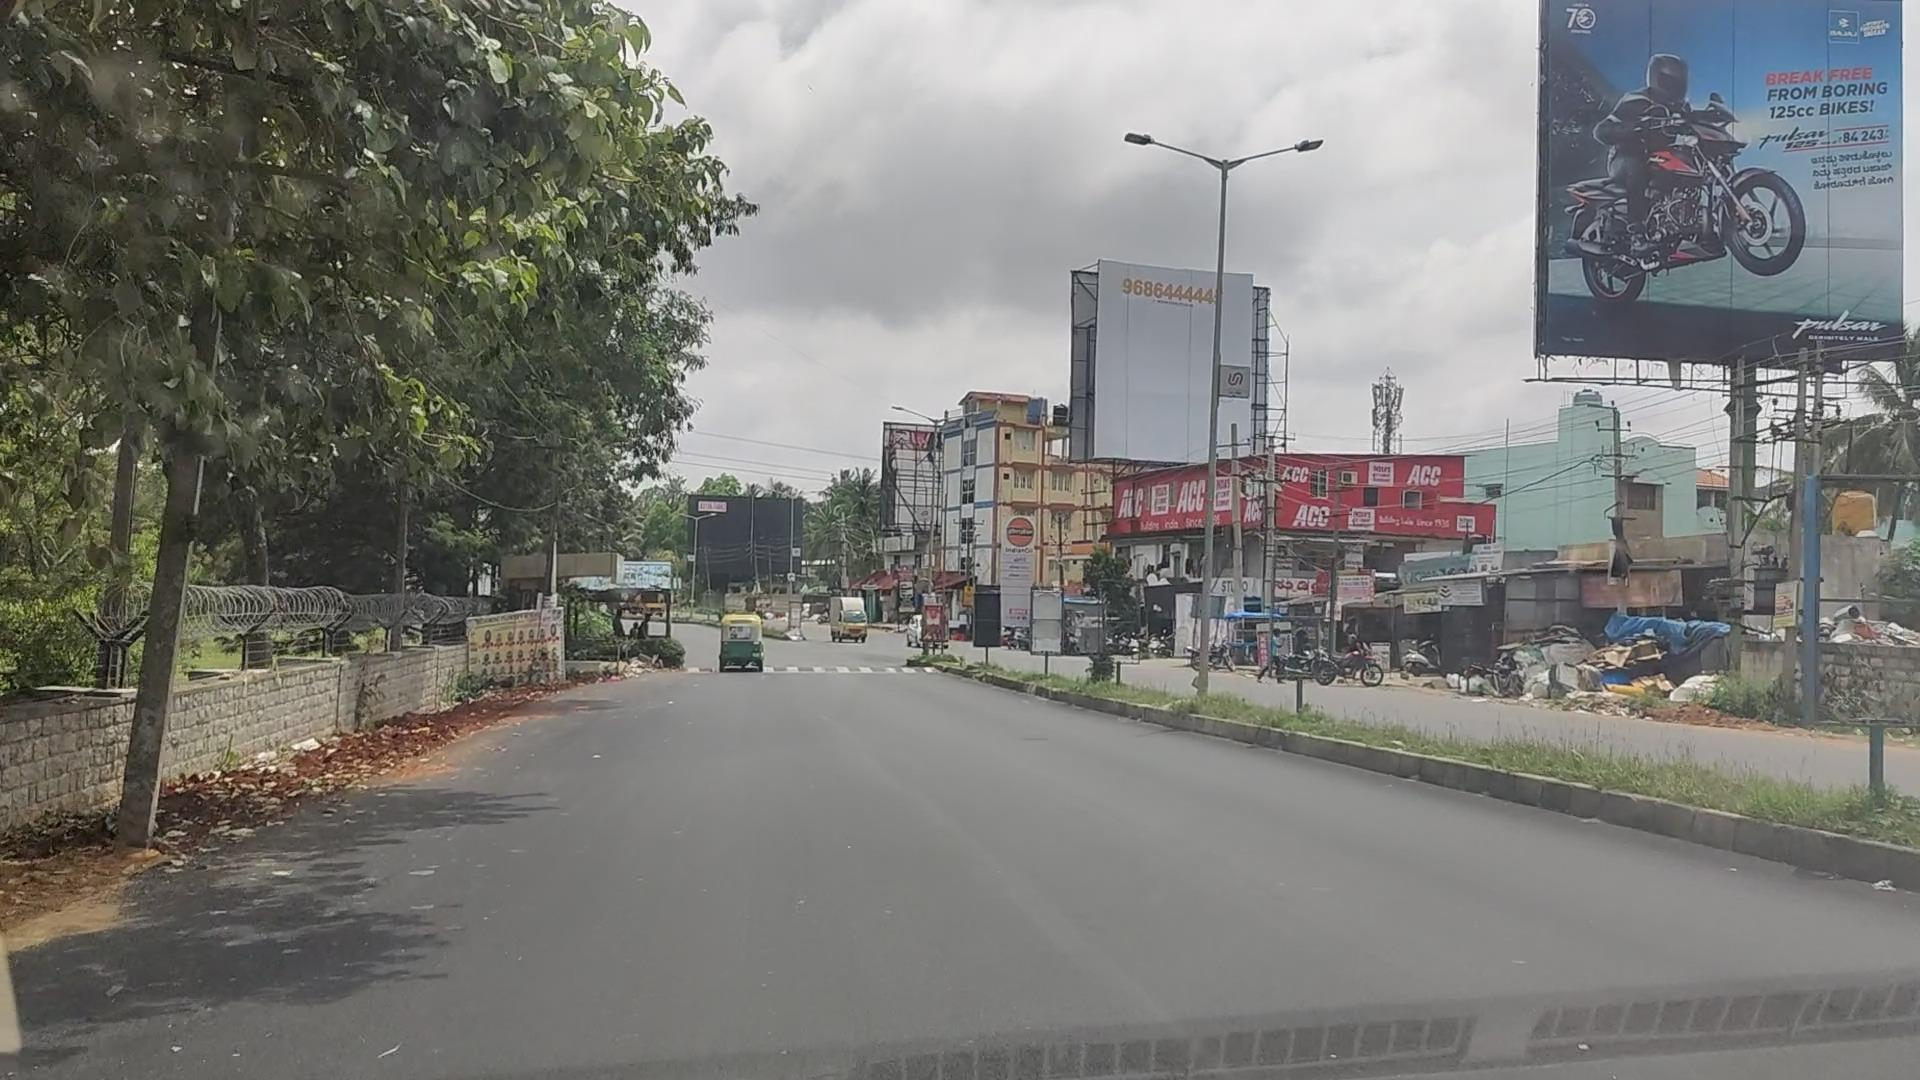LMV: (725, 618, 762, 667)
SpeedBump: (708, 658, 916, 678)
